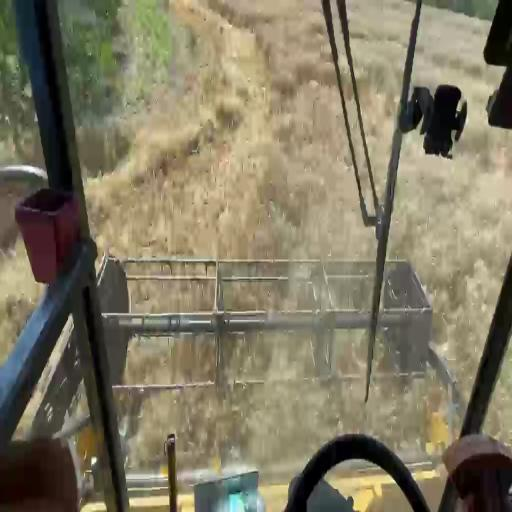arpa: (66, 0, 376, 262), (388, 112, 512, 395), (136, 384, 305, 461), (348, 0, 413, 196), (412, 4, 500, 109)
